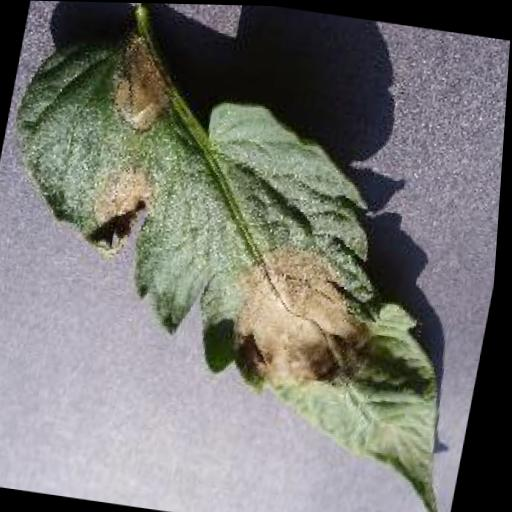Late Blight: (0, 23, 511, 512)
